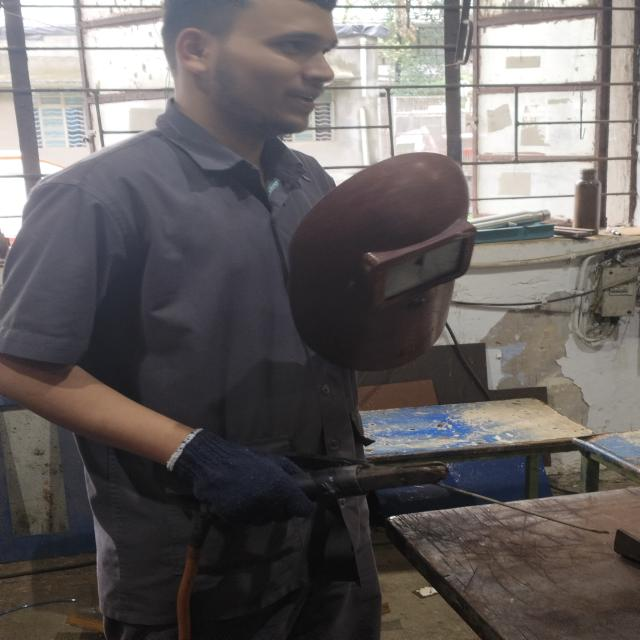Gloves-Detection: (195, 443, 313, 516)
